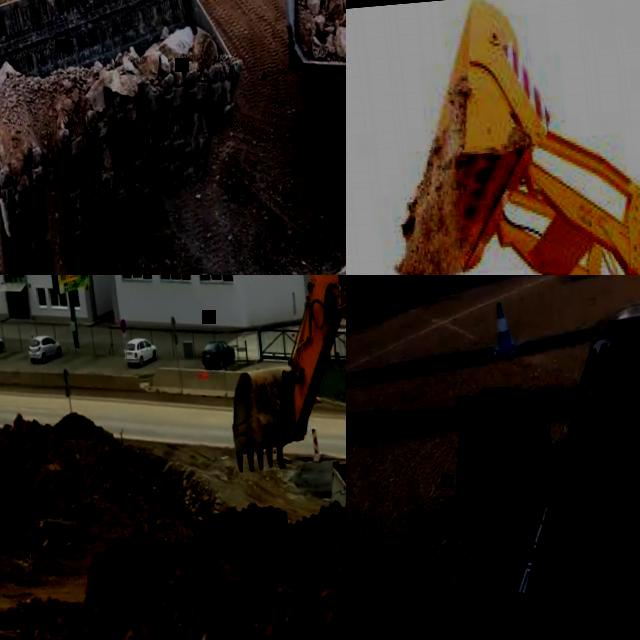machinery: (0, 0, 266, 275), (375, 0, 640, 275), (212, 275, 346, 640)
safety_cone: (484, 297, 519, 364)
vehicle: (409, 283, 640, 640), (200, 338, 236, 371), (122, 336, 158, 368), (28, 333, 62, 364)
